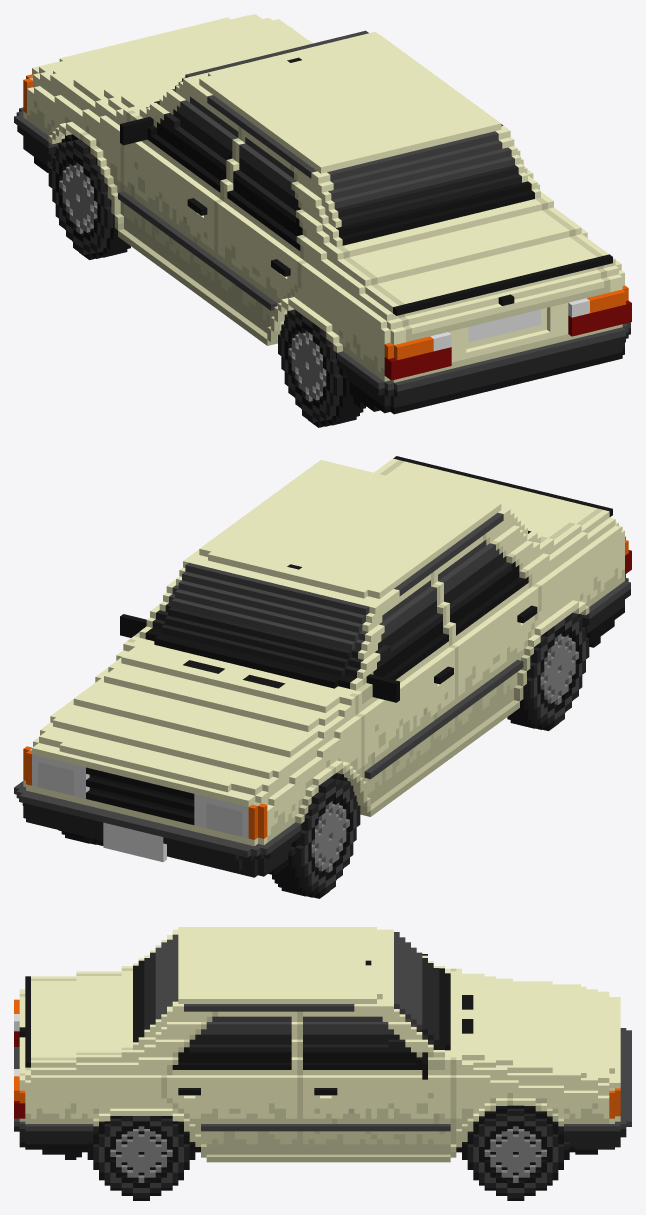
3 views of the same model, one above another, from view 1: azimuth 30°, elevation 25°; view 2: azimuth 150°, elevation 25°; view 3: azimuth 270°, elevation 25° (orthographic). The views are drawn at different scales.
Visible parts, largest first — view 1: VOX; view 2: VOX; view 3: VOX.
Boxes of the visible parts, x1,y1,x2,y2 form: VOX: (14,14,631,427); VOX: (14,456,631,898); VOX: (14,927,631,1200).
Size of the model in its own units: 0.046 by 0.037 by 0.109.
